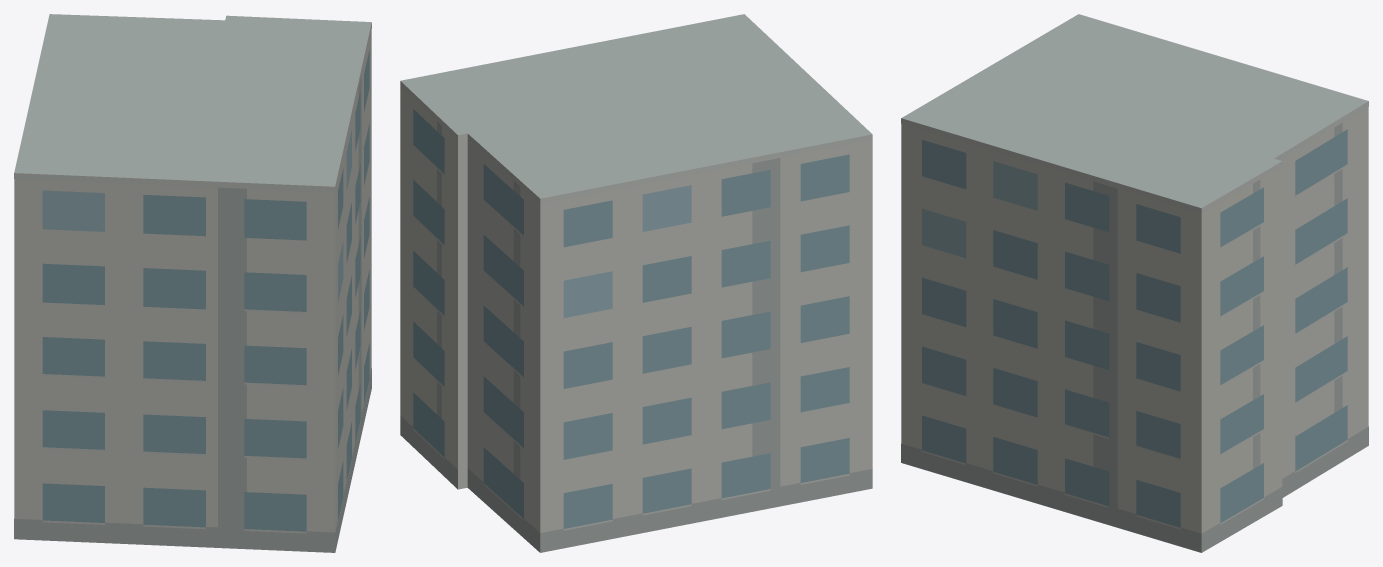
The model's file is survey-upis-32967145.glb.
The picture shows the model from 3 angles, left to right: view 1: azimuth 30°, elevation 25°; view 2: azimuth 150°, elevation 25°; view 3: azimuth 270°, elevation 25°; orthographic projection. The views are drawn at different scales.
Visible parts, largest first — view 1: survey-upis-32967145.tmp; view 2: survey-upis-32967145.tmp; view 3: survey-upis-32967145.tmp.
Part boxes in pixels (x1,y1,x2,y2): survey-upis-32967145.tmp: [14, 14, 371, 552]; survey-upis-32967145.tmp: [400, 14, 872, 552]; survey-upis-32967145.tmp: [901, 14, 1368, 552].
Bounding box in the file's own units: 18.44 × 15.25 × 18.76.
